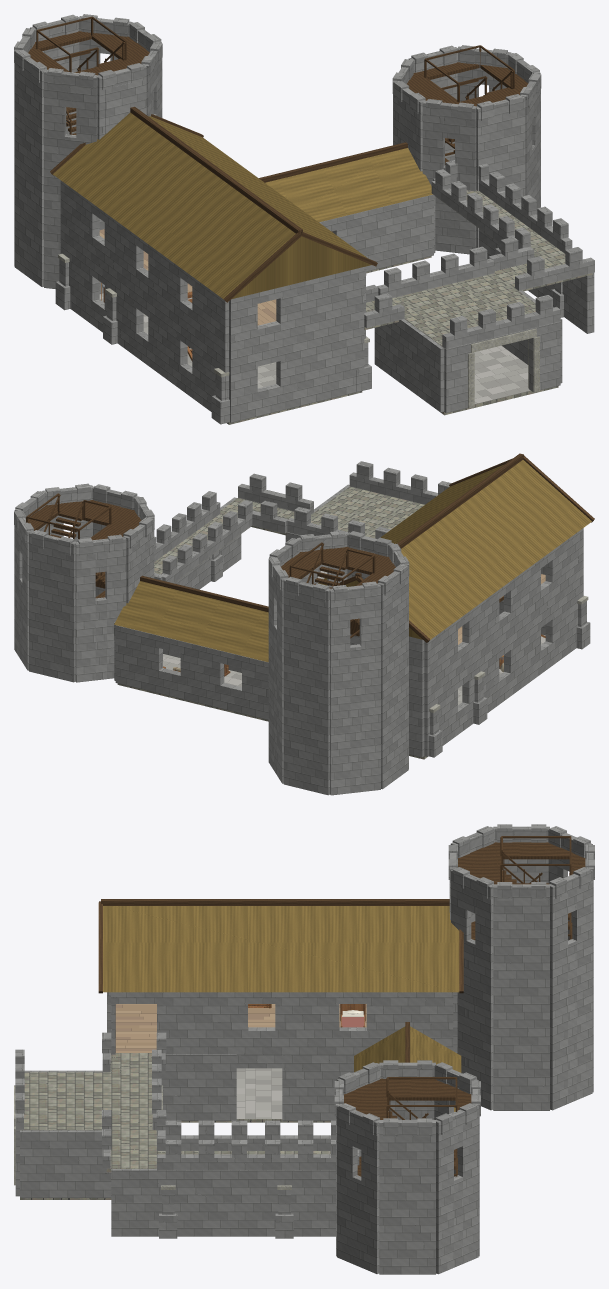
The model's file is keep.glb.
The picture shows the model from 3 angles, top to bottom: view 1: azimuth 30°, elevation 25°; view 2: azimuth 150°, elevation 25°; view 3: azimuth 270°, elevation 25°; orthographic projection. The views are drawn at different scales.
Visible parts, largest first — view 1: Keep_Shell_2_111, Keep_Roof_3_2, Keep_GroundFront_2_36, Keep_Upper_Wallwalk_1_35, Keep_Roof_3_48, Keep_Upper_Floor_2_4.001, Keep_Roof_3_6, Keep_Floor_Flags, Keep_Upper_Tower_Eastturret_Level2_Floor_1_16, Keep_Upper_Tower_Highwatch_Level3_Floor_1_16, Keep_GroundFront_2_6, Keep_Floor_1_5 (+2 smaller); view 2: Keep_Shell_2_111, Keep_Roof_3_2, Keep_Upper_Wallwalk_1_35, Keep_Roof_3_48, Keep_Upper_Floor_2_4.001, Keep_Roof_3_6, Keep_Upper_Tower_Eastturret_Level2_Floor_1_16, Keep_Upper_Tower_Highwatch_Level3_Floor_1_16, Keep_Tower_Highwatch_Level3_Stair_1_34, Keep_Tower_Eastturret_Level2_Stair_1_34, Keep_Floor_Flags; view 3: Keep_Shell_2_111, Keep_Roof_3_2, Keep_Upper_Shell_1_17, Keep_Roof_3_48, Keep_Upper_Wallwalk_1_35, Keep_Upper_Floor_2_4.001, Keep_GroundFront_2_36, Keep_Roof_3_6, Keep_Upper_Tower_Eastturret_Level2_Floor_1_16, Keep_Upper_Tower_Highwatch_Level3_Floor_1_16, Keep_Upper_Floor_Boards, Keep_Floor_Flags (+1 smaller).
Part boxes in pixels (bbox=[...]): Keep_Shell_2_111: bbox=[14, 31, 594, 424]; Keep_Roof_3_2: bbox=[53, 112, 432, 299]; Keep_GroundFront_2_36: bbox=[229, 194, 560, 422]; Keep_Upper_Wallwalk_1_35: bbox=[364, 160, 594, 349]; Keep_Roof_3_48: bbox=[14, 14, 541, 121]; Keep_Upper_Floor_2_4.001: bbox=[364, 190, 592, 347]; Keep_Roof_3_6: bbox=[50, 106, 407, 302]; Keep_Floor_Flags: bbox=[99, 293, 530, 404]; Keep_Upper_Tower_Eastturret_Level2_Floor_1_16: bbox=[407, 45, 528, 106]; Keep_Upper_Tower_Highwatch_Level3_Floor_1_16: bbox=[28, 16, 149, 75]; Keep_GroundFront_2_6: bbox=[468, 328, 539, 408]; Keep_Floor_1_5: bbox=[227, 256, 558, 424]; Keep_Shell_2_111: bbox=[14, 484, 590, 795]; Keep_Roof_3_2: bbox=[114, 460, 591, 662]; Keep_Upper_Wallwalk_1_35: bbox=[154, 461, 451, 583]; Keep_Roof_3_48: bbox=[14, 483, 409, 602]; Keep_Upper_Floor_2_4.001: bbox=[154, 486, 424, 582]; Keep_Roof_3_6: bbox=[140, 453, 594, 642]; Keep_Upper_Tower_Eastturret_Level2_Floor_1_16: bbox=[26, 493, 141, 540]; Keep_Upper_Tower_Highwatch_Level3_Floor_1_16: bbox=[281, 542, 395, 585]; Keep_Tower_Highwatch_Level3_Stair_1_34: bbox=[306, 543, 359, 633]; Keep_Tower_Eastturret_Level2_Stair_1_34: bbox=[43, 494, 105, 585]; Keep_Floor_Flags: bbox=[163, 571, 545, 705]; Keep_Shell_2_111: bbox=[20, 842, 593, 1274]; Keep_Roof_3_2: bbox=[103, 906, 461, 1111]; Keep_Upper_Shell_1_17: bbox=[111, 992, 453, 1054]; Keep_Roof_3_48: bbox=[334, 824, 594, 1136]; Keep_Upper_Wallwalk_1_35: bbox=[15, 1032, 359, 1170]; Keep_Upper_Floor_2_4.001: bbox=[20, 1053, 330, 1172]; Keep_GroundFront_2_36: bbox=[15, 992, 355, 1196]; Keep_Roof_3_6: bbox=[98, 899, 463, 1062]; Keep_Upper_Tower_Eastturret_Level2_Floor_1_16: bbox=[344, 1077, 471, 1119]; Keep_Upper_Tower_Highwatch_Level3_Floor_1_16: bbox=[458, 836, 585, 884]; Keep_Upper_Floor_Boards: bbox=[115, 1004, 366, 1052]; Keep_Floor_Flags: bbox=[236, 1068, 282, 1118].
Bounding box in the file's own units: 23.71 × 11.32 × 25.48.
Materials: 12 (8 with a texture image).
